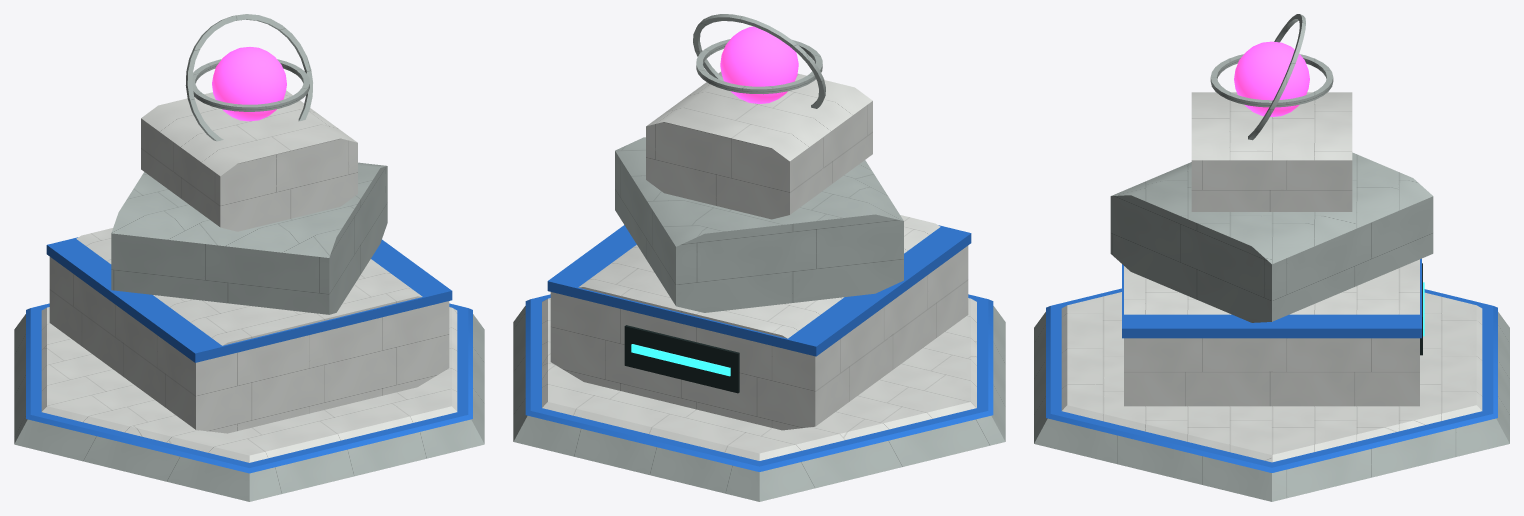
Rendered from energia_laboratorio.glb.
The picture shows the model from 3 angles, left to right: view 1: azimuth 30°, elevation 25°; view 2: azimuth 150°, elevation 25°; view 3: azimuth 270°, elevation 25°; orthographic projection. The views are drawn at different scales.
Parts seen in each view (by area): view 1: Body_Shell, Body_ShellAlt, Body_TeamColor, Body_CoreGlow, Ring_ShellAlt; view 2: Body_Shell, Body_ShellAlt, Body_TeamColor, Body_CoreGlow, Body_Core, Ring_ShellAlt, Body_Glow; view 3: Body_Shell, Body_ShellAlt, Body_TeamColor, Body_CoreGlow, Ring_ShellAlt.
Boxes of the visible parts, bbox=[...] form: Body_Shell: bbox=[41, 90, 457, 462]; Body_ShellAlt: bbox=[14, 162, 484, 501]; Body_TeamColor: bbox=[26, 237, 472, 473]; Body_CoreGlow: bbox=[212, 47, 286, 121]; Ring_ShellAlt: bbox=[185, 14, 312, 141]; Body_Shell: bbox=[542, 71, 976, 460]; Body_ShellAlt: bbox=[513, 137, 1005, 501]; Body_TeamColor: bbox=[525, 225, 993, 471]; Body_CoreGlow: bbox=[720, 26, 798, 103]; Body_Core: bbox=[624, 325, 739, 393]; Ring_ShellAlt: bbox=[693, 14, 825, 108]; Body_Glow: bbox=[631, 344, 730, 376]; Body_Shell: bbox=[1061, 92, 1482, 462]; Body_ShellAlt: bbox=[1034, 152, 1509, 501]; Body_TeamColor: bbox=[1046, 258, 1497, 472]; Body_CoreGlow: bbox=[1234, 41, 1309, 116]; Ring_ShellAlt: bbox=[1210, 14, 1333, 140].
Size of the model in its own units: 13 by 9.52 by 11.26.
6 materials, 2 textured.
